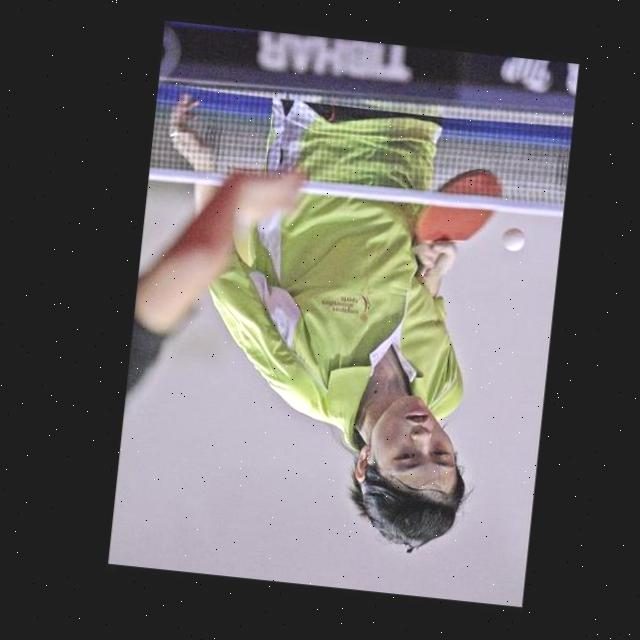ping-pong-ball: (498, 225, 524, 251)
